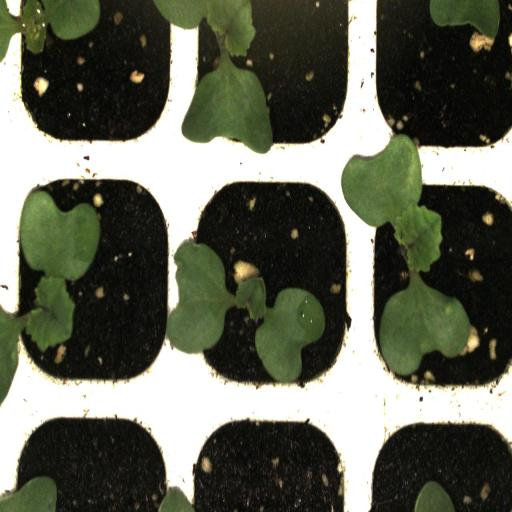seedling: (0, 159, 187, 401), (188, 159, 363, 397), (363, 158, 512, 397), (186, 0, 362, 155)
